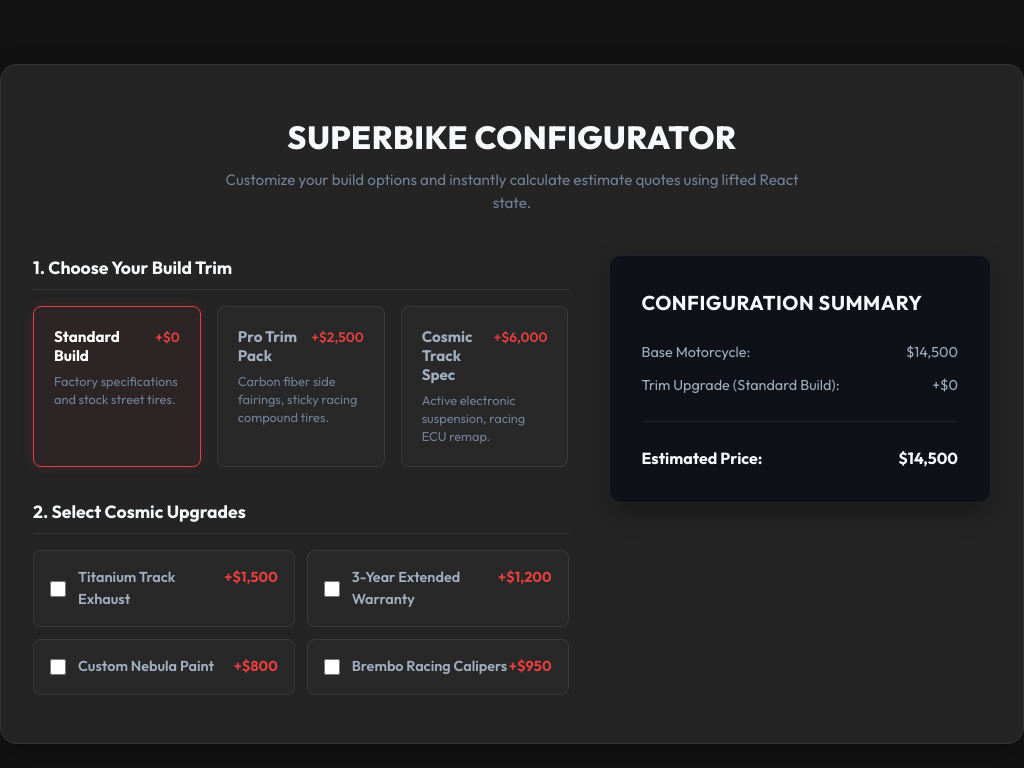
Test: BikeConfigurator Integration Test (Explicit Lifted State) › updates estimate dynamically when selecting/deselecting multiple upgrades
This screenshot has width=1024, height=768.
Expected: the text "Selected Upgrades:" is not shown
Note: Check warranty option
Click the checkbox labelled "3-Year Extended Warranty +$1,200": (332, 589) [324,581,340,597]
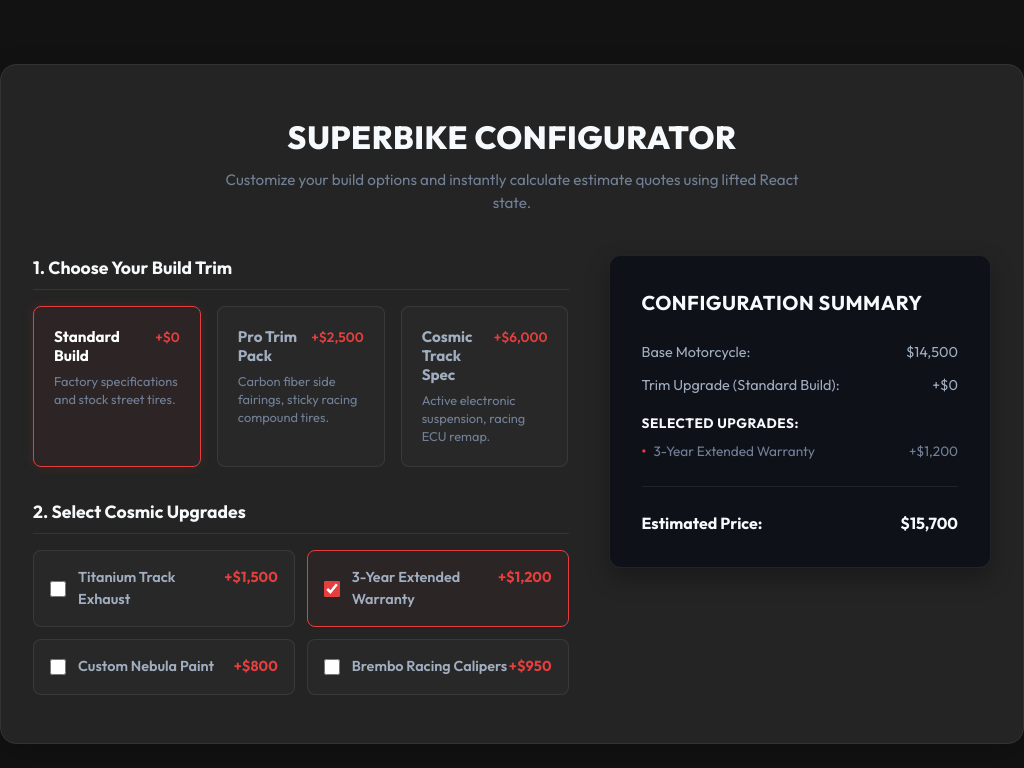
Expected: the text "3-Year Extended Warranty" is shown 2 times, [352,568,460,608]; [654,441,815,462]
Expected: the text "Selected Upgrades:" is shown, [642,414,799,432]
Expected: the text "$15,700" is shown, [900,511,958,535]
Note: Check paint option
Click the checkbox labelled "Custom Nebula Paint +$800": (58, 667) [50,659,66,675]
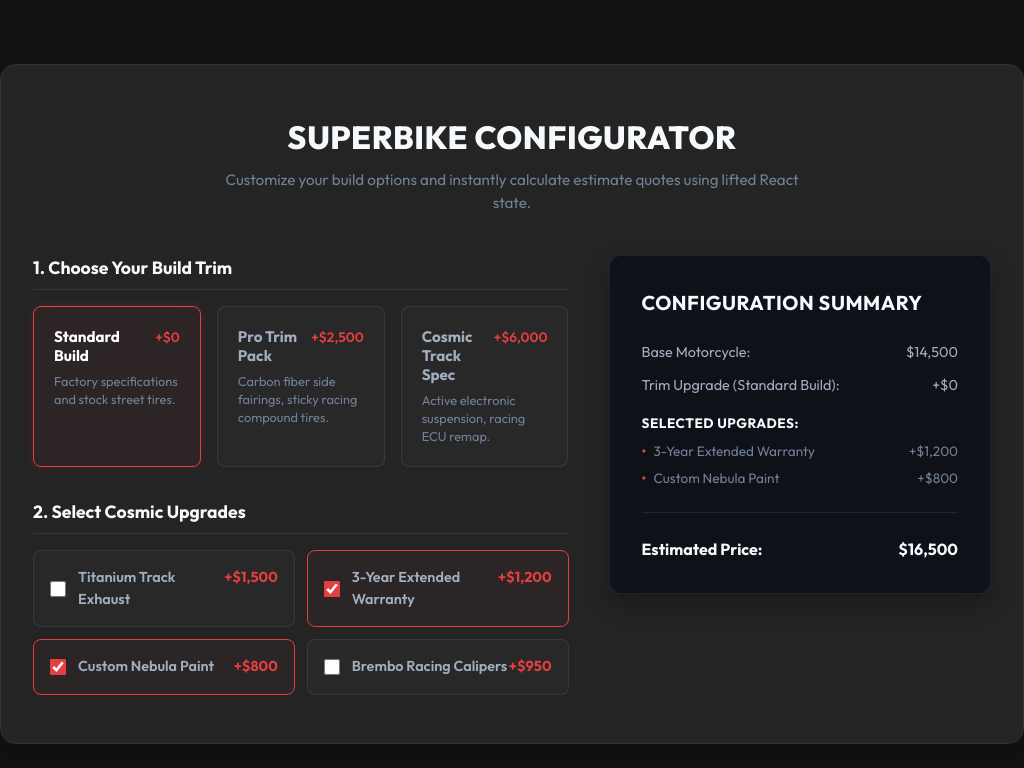
Expected: the text "Custom Nebula Paint" is shown 2 times, [78,656,214,678]; [654,468,779,488]
Expected: the text "$16,500" is shown, [898,537,958,561]
Note: Toggle trim to "Pro Trim Pack" (+2,500)
Click the button "Pro Trim Pack": (301, 386) [217,306,385,467]
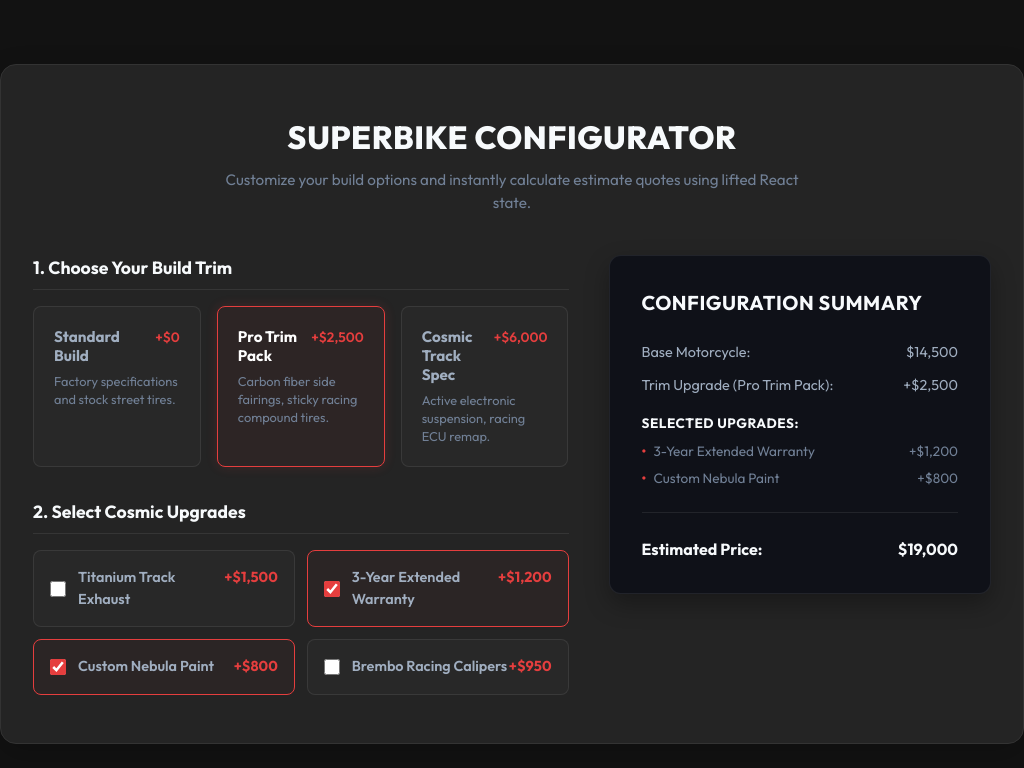
Expected: the text "$19,000" is shown, [898,537,958,561]
Note: Uncheck warranty option
Click the checkbox labelled "3-Year Extended Warranty +$1,200": (332, 589) [324,581,340,597]
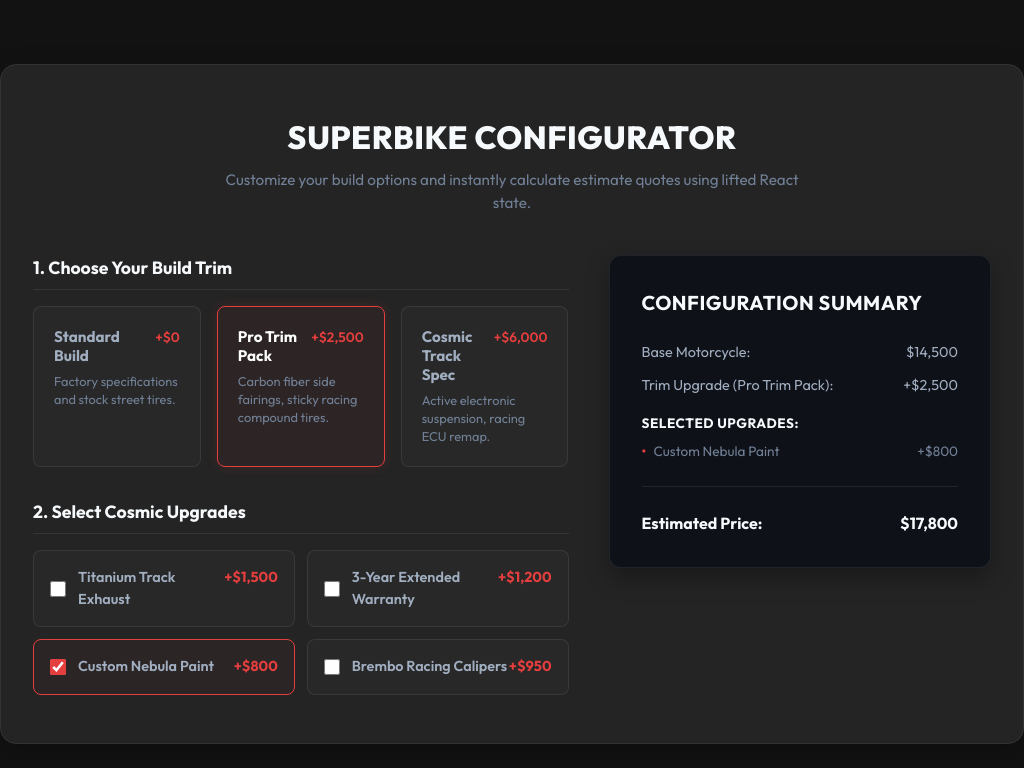
Expected: the text "3-Year Extended Warranty" is shown once, [352,568,460,608]
Expected: the text "$17,800" is shown, [900,511,958,535]
